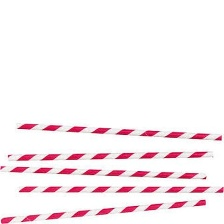drinking_straw: (11, 118, 224, 145), (0, 196, 210, 223)
